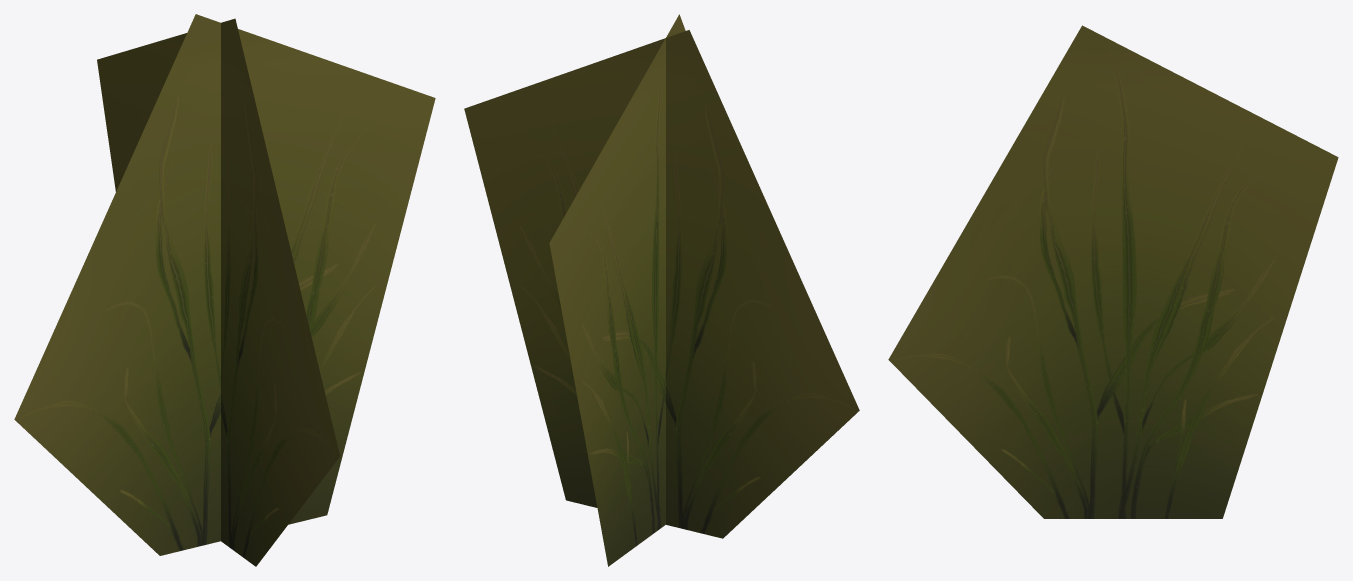
Rendered from grass3_lod2.glb.
The picture shows the model from 3 angles, left to right: view 1: azimuth 30°, elevation 25°; view 2: azimuth 150°, elevation 25°; view 3: azimuth 270°, elevation 25°; orthographic projection. The views are drawn at different scales.
Parts seen in each view (by area): view 1: grass3_LOD2; view 2: grass3_LOD2; view 3: grass3_LOD2.
Part boxes in pixels (left/top/right/bottom): grass3_LOD2: left=14, top=14, right=435, bottom=566; grass3_LOD2: left=464, top=14, right=859, bottom=566; grass3_LOD2: left=888, top=25, right=1338, bottom=518.
Size of the model in its own units: 0.8267 by 1 by 0.8267.
1 material, 1 textured.
